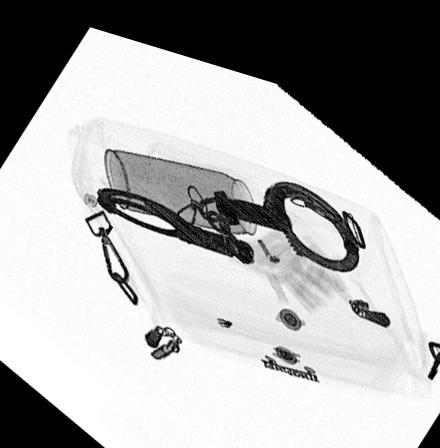HandCuffs: (94, 160, 362, 257)
